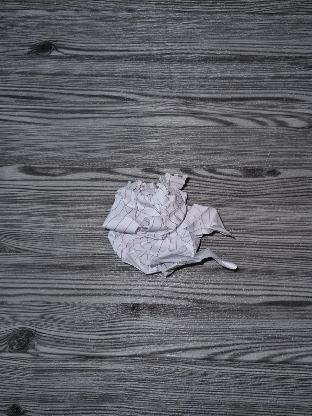Paper: (101, 180, 238, 272)
